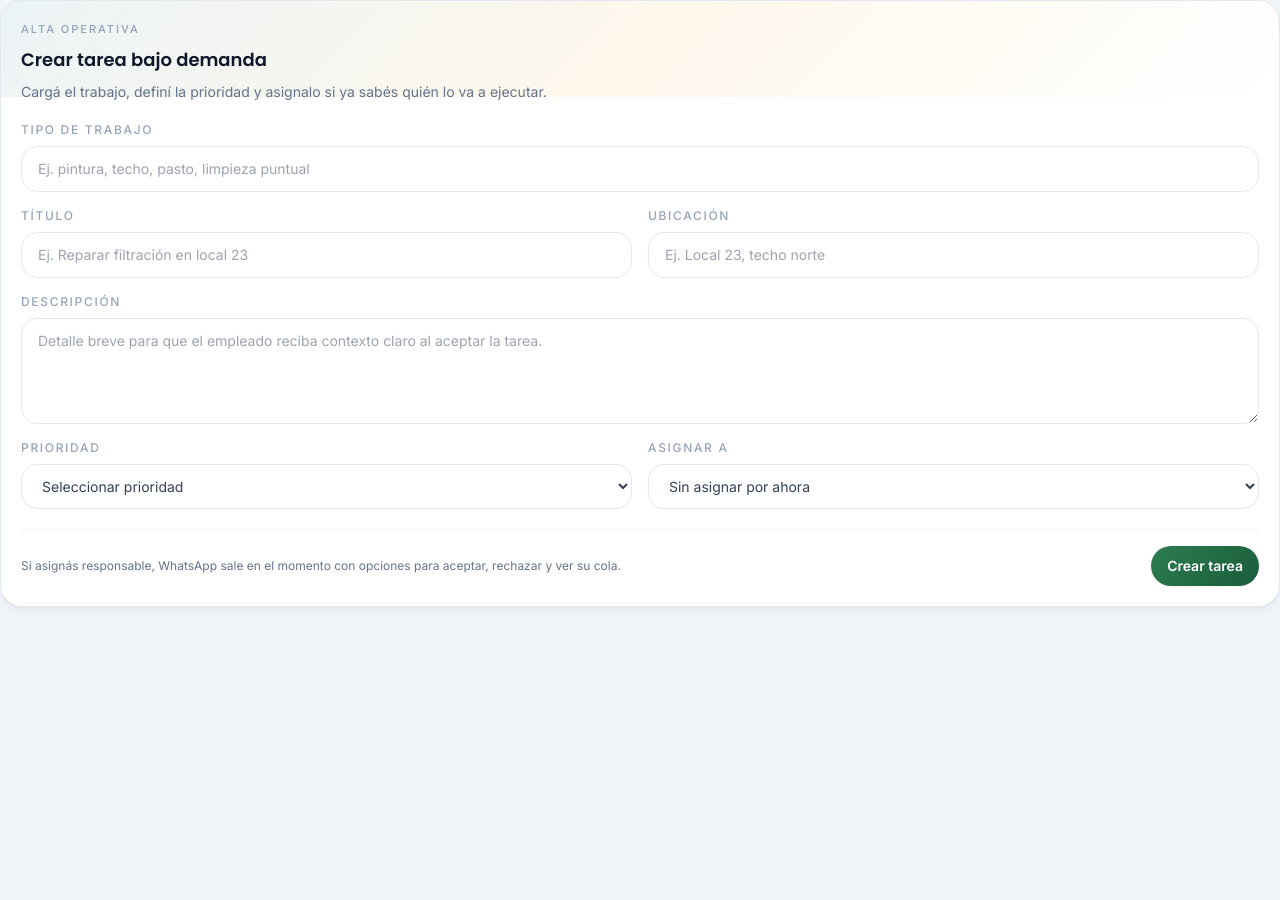
Test: TaskCreateForm › blocks submit and shows inline validation when required fields are missing
Click the button "Crear tarea".
click(1205, 566)  # box [1151, 546, 1259, 586]
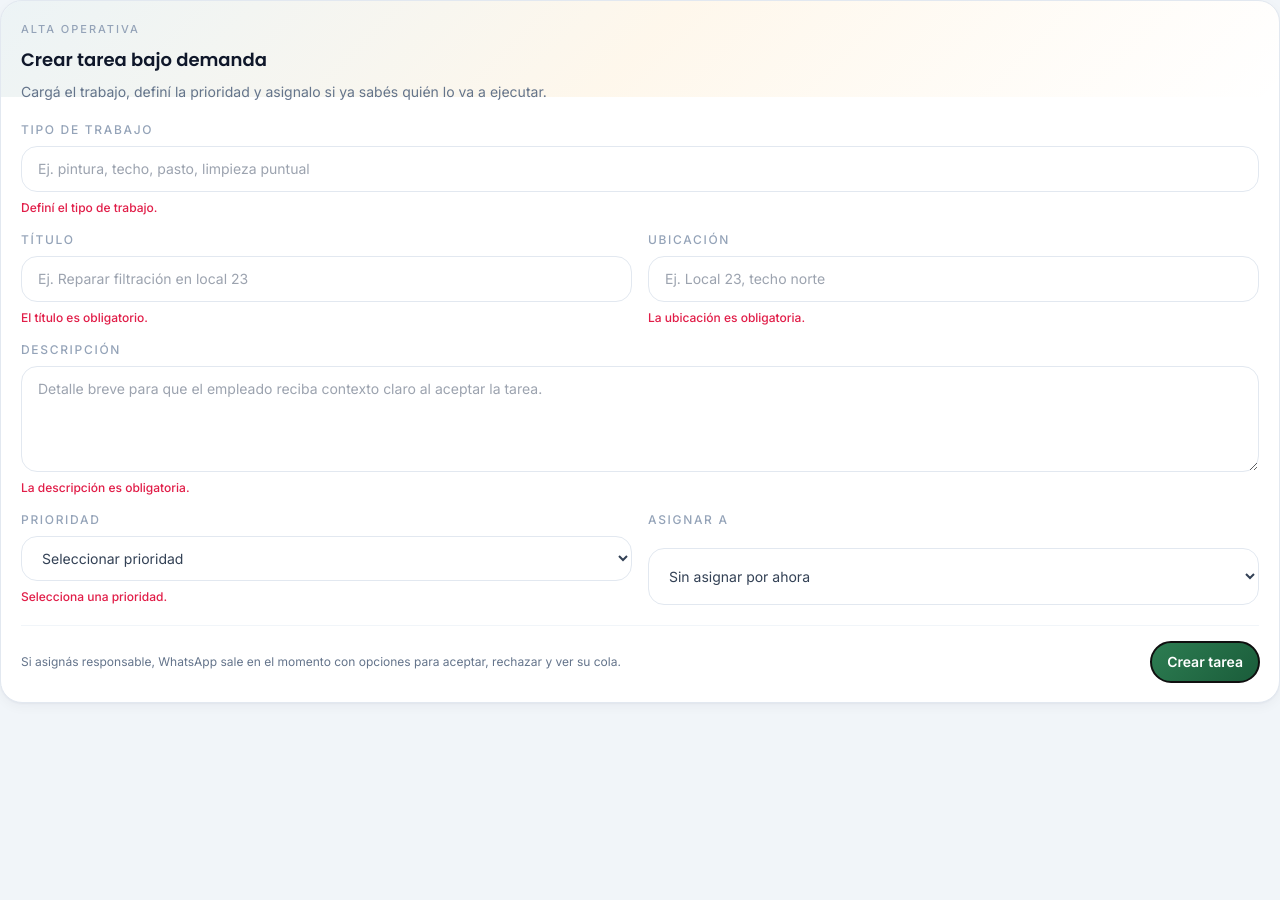
expect the text "El título es obligatorio." is shown: met, box [21, 310, 148, 324]
expect the text "La ubicación es obligatoria." is shown: met, box [648, 310, 805, 324]
expect the text "Selecciona una prioridad." is shown: met, box [21, 588, 167, 604]
